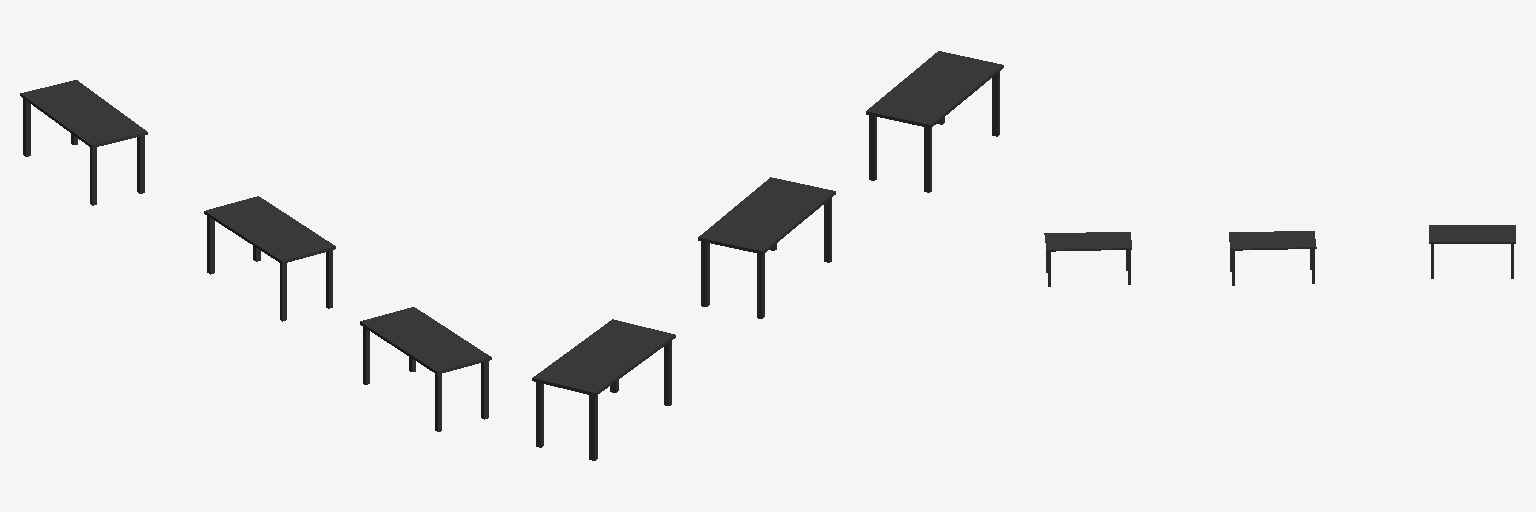
robot.urdf — Tables:
<?xml version="1.0" encoding="utf-8"?>
<!-- This URDF was automatically created by SolidWorks to URDF Exporter! Originally created by [author] ([email redacted]) 
     Commit Version: 1.5.1-0-g916b5db  Build Version: 1.5.7152.31018
     For more information, please see http://wiki.ros.org/sw_urdf_exporter -->
<robot
  name="Tables">
  <link
    name="base_link">
    <inertial>
      <origin
        xyz="-0.74098342495566 -5.49066250097687 0.700394758064515"
        rpy="0 0 0" />
      <mass
        value="62.1790756416001" />
      <inertia
        ixx="21.4637355515712"
        ixy="0.542039585018671"
        ixz="2.70068302066733E-15"
        iyy="5.96384197918802"
        iyz="1.55643113927747E-14"
        izz="22.9988251240906" />
    </inertial>
    <visual>
      <origin
        xyz="0 0 0"
        rpy="0 0 0" />
      <geometry>
        <mesh
          filename="package://Tables/meshes/base_link.STL" />
      </geometry>
      <material
        name="">
        <color
          rgba="0.250980392156863 0.250980392156863 0.250980392156863 1" />
      </material>
    </visual>
    <collision>
      <origin
        xyz="0 0 0"
        rpy="0 0 0" />
      <geometry>
        <mesh
          filename="package://Tables/meshes/base_link.STL" />
      </geometry>
    </collision>
  </link>
</robot>

--- Render facts (derived) ---
3 views of the same robot in one strip: view 1: azimuth 30°, elevation 25°; view 2: azimuth 150°, elevation 25°; view 3: azimuth 270°, elevation 25° (orthographic).
Robot: Tables — 1 links, 0 joints (none); root link base_link; default pose: every joint at zero.
Links seen in each view (by area): view 1: base_link; view 2: base_link; view 3: base_link.
Link boxes in pixels (x1,y1,x2,y2): base_link: (20, 80, 491, 431); base_link: (532, 51, 1003, 460); base_link: (1044, 225, 1515, 286).
Bounding box of the posed robot: 1.13 × 9.18 × 0.8001 m (x, y, z).
Meshes: 1 distinct files referenced, 1 mesh visuals loaded (1 binary STL).